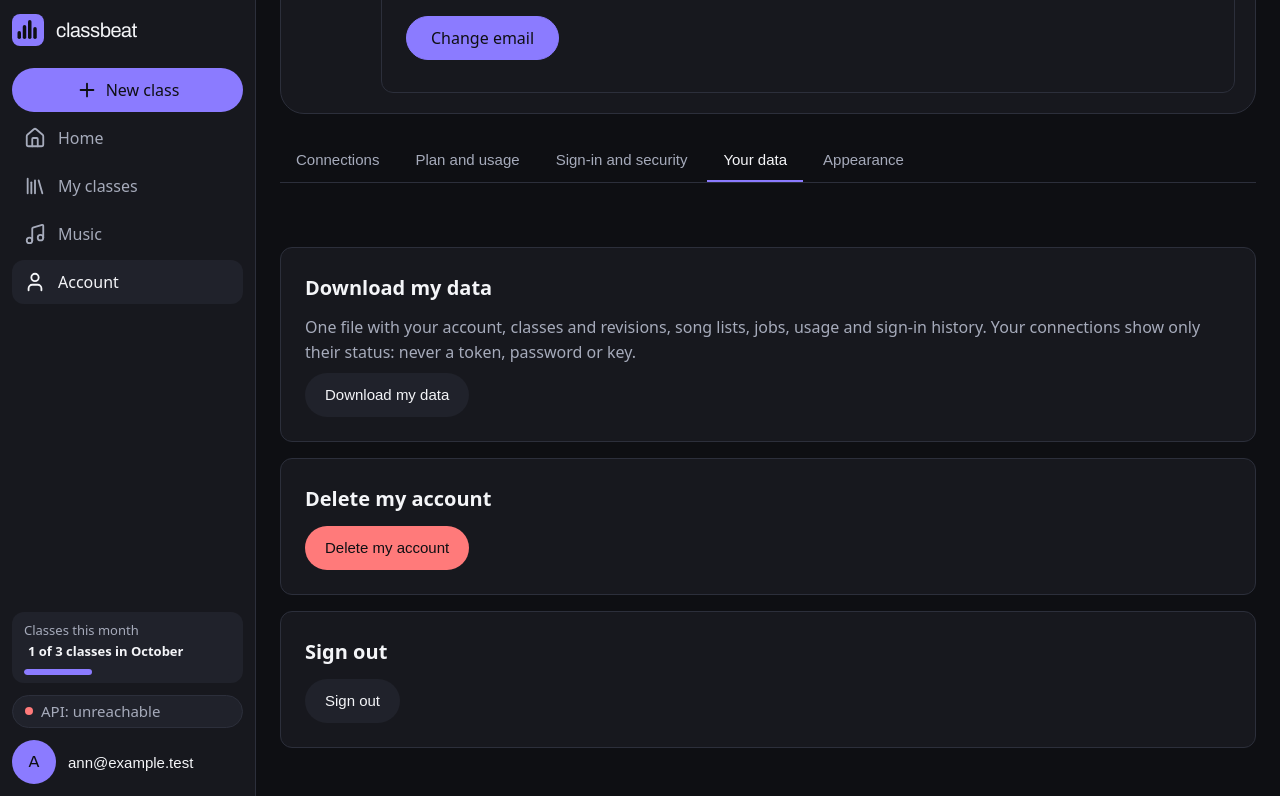
it: delete my account › does nothing when kept
(page scrolled)
Click the button "Delete my account".
click(387, 548)  # box x1=305 y1=526 x2=469 y2=570
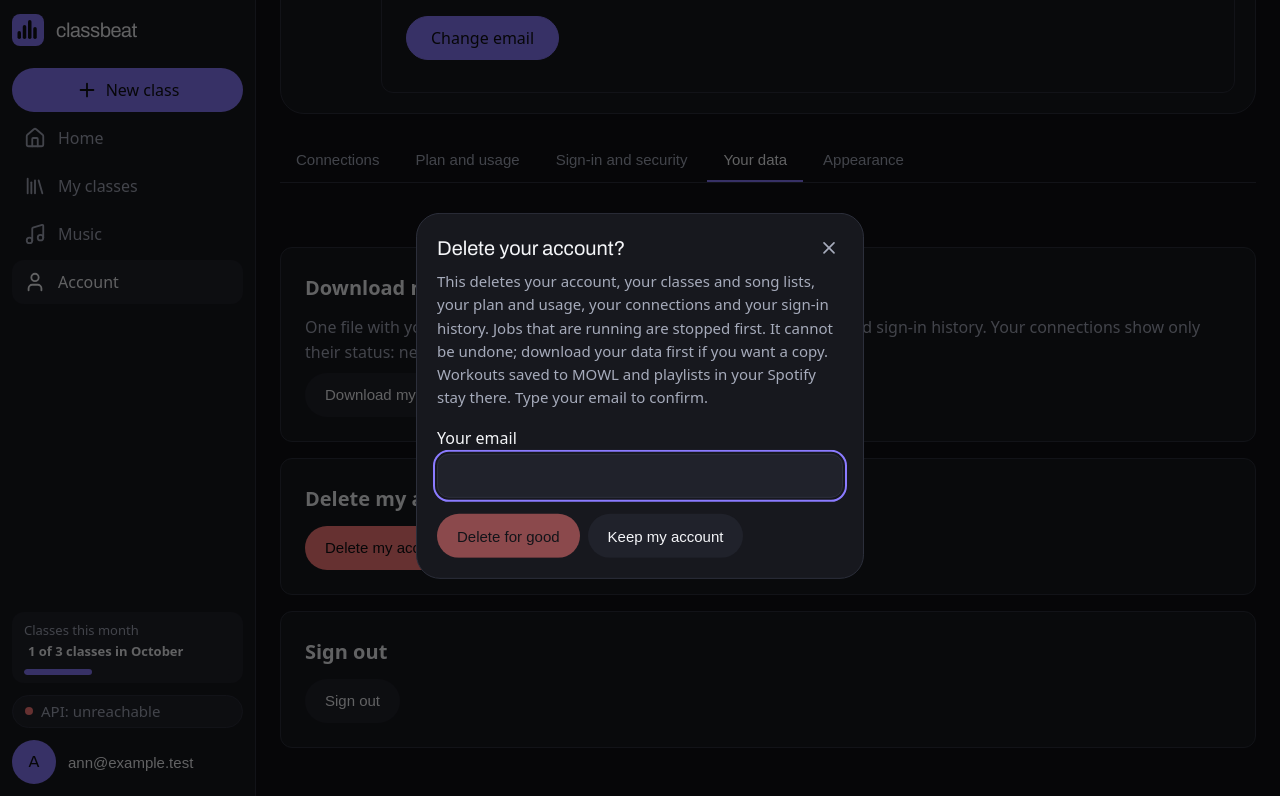
Click the button "Keep my account".
click(666, 536)  # box x1=588 y1=514 x2=744 y2=558
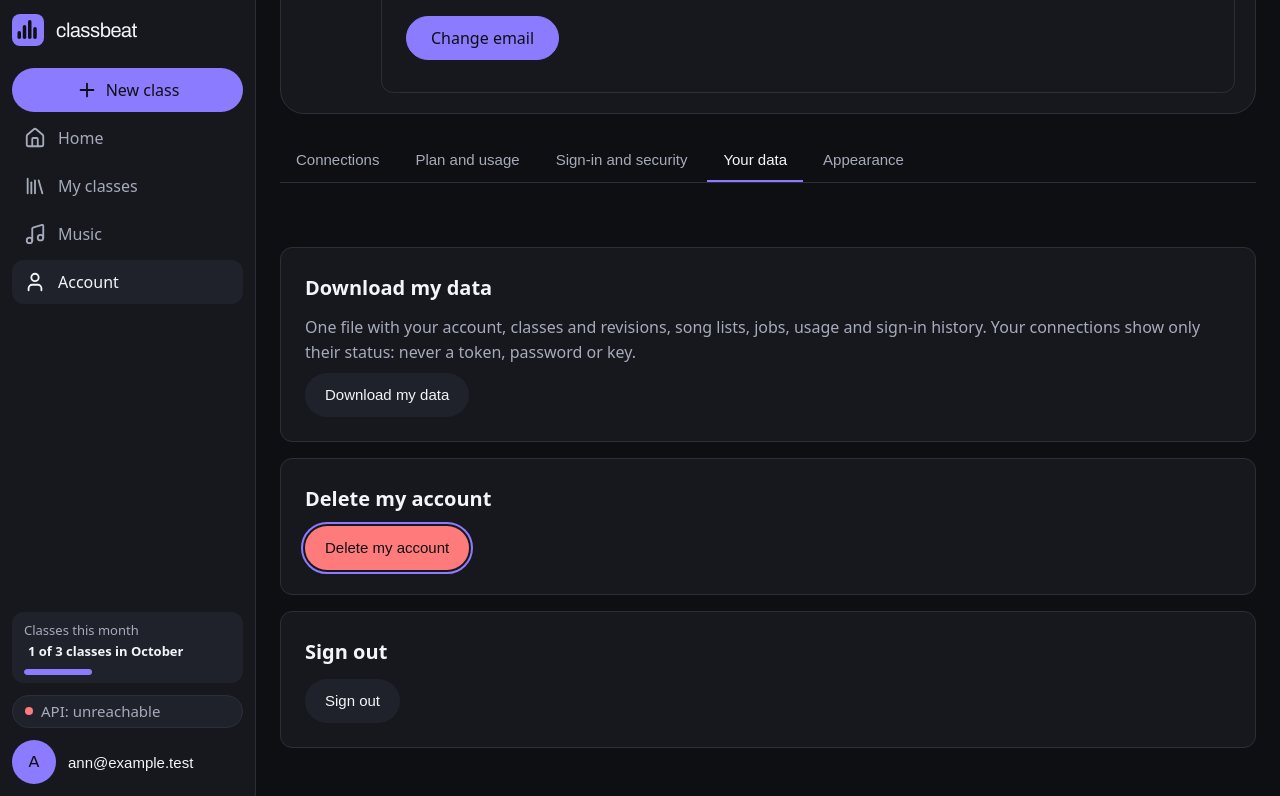
Now the dialog is gone
